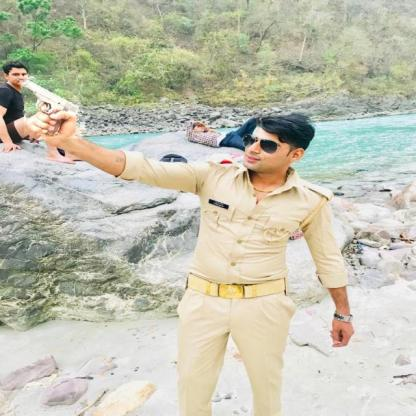handgun: (22, 73, 85, 141)
